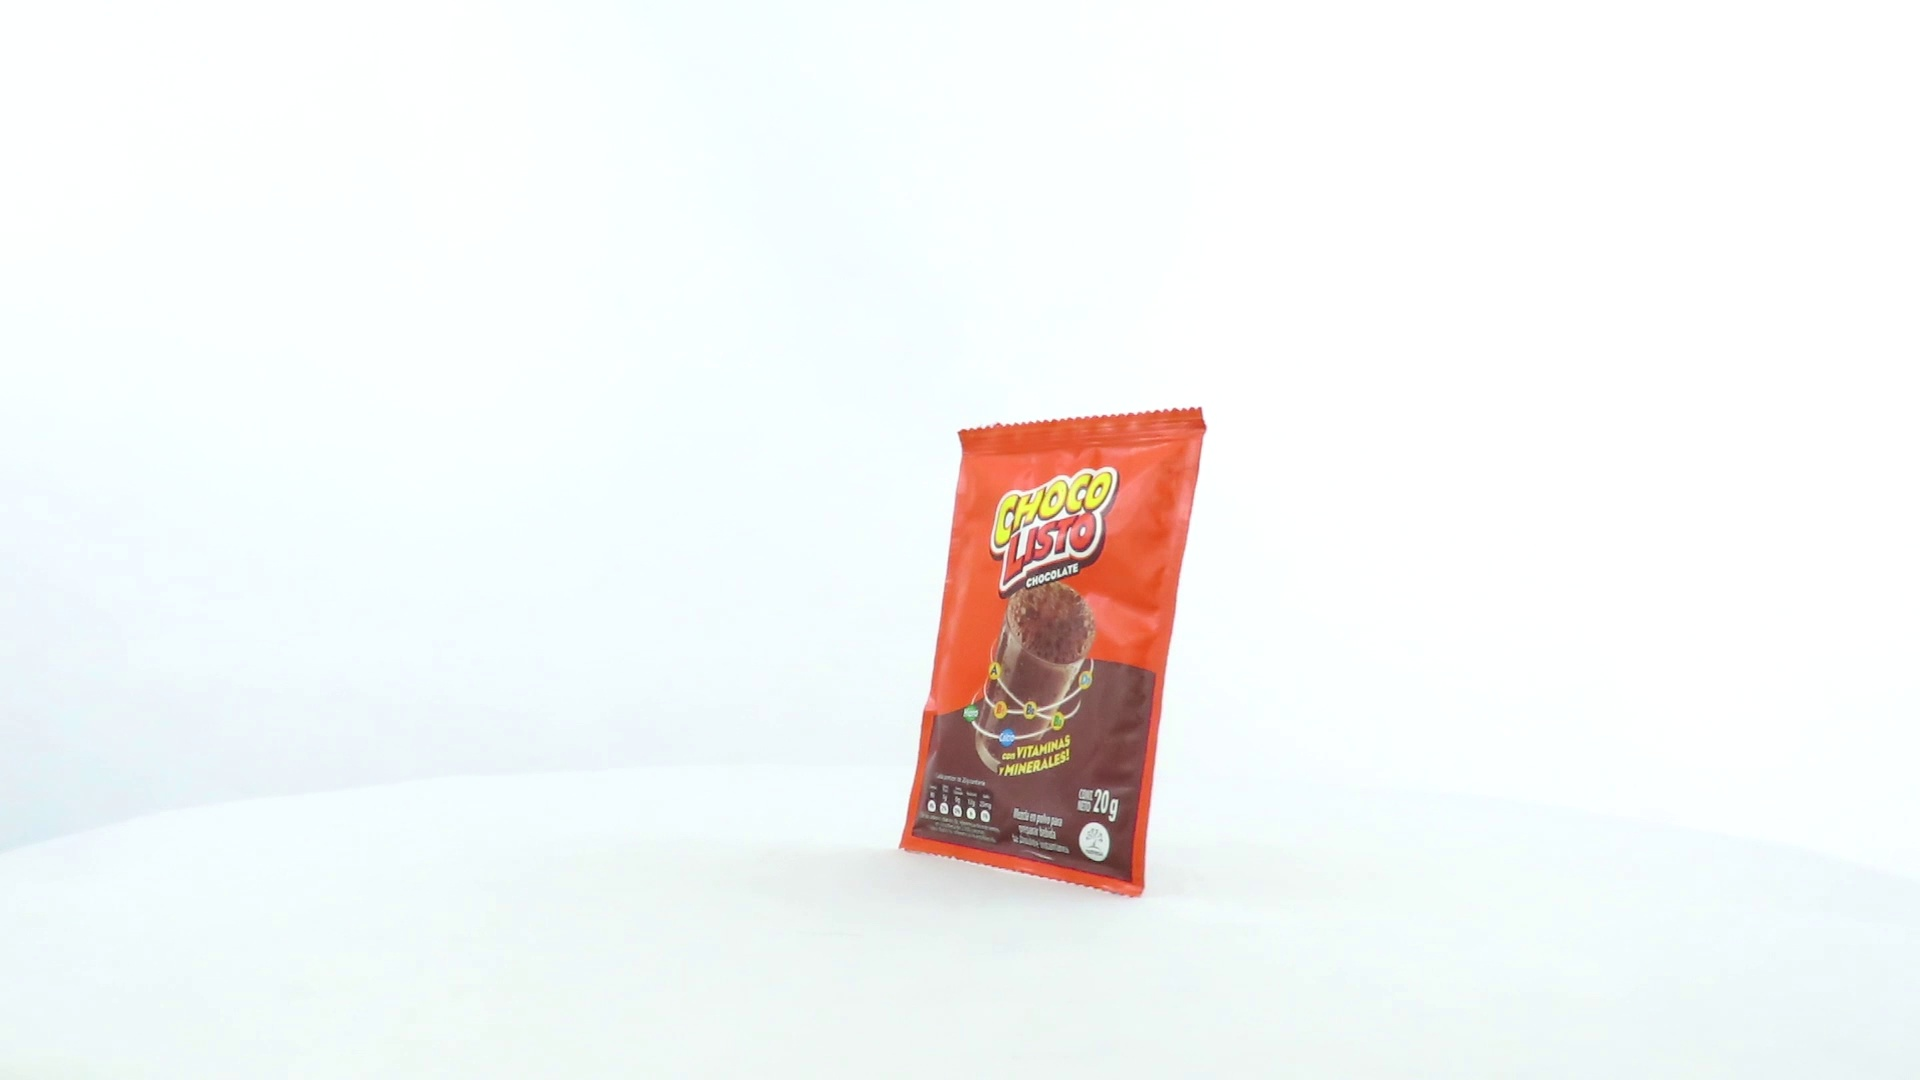COL0170103SOB02000: (893, 402, 1213, 905)
